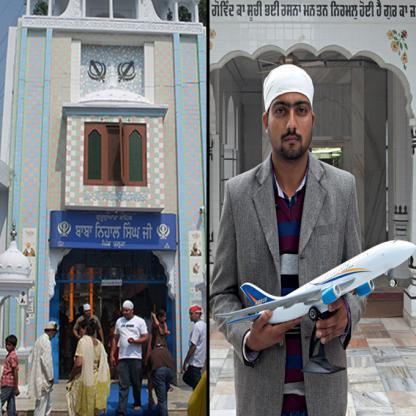CIV_Plane: (219, 233, 415, 336)
